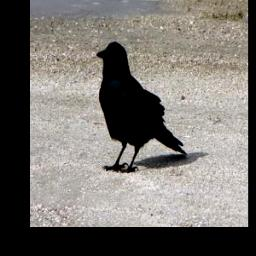Crow: (93, 40, 189, 174)
